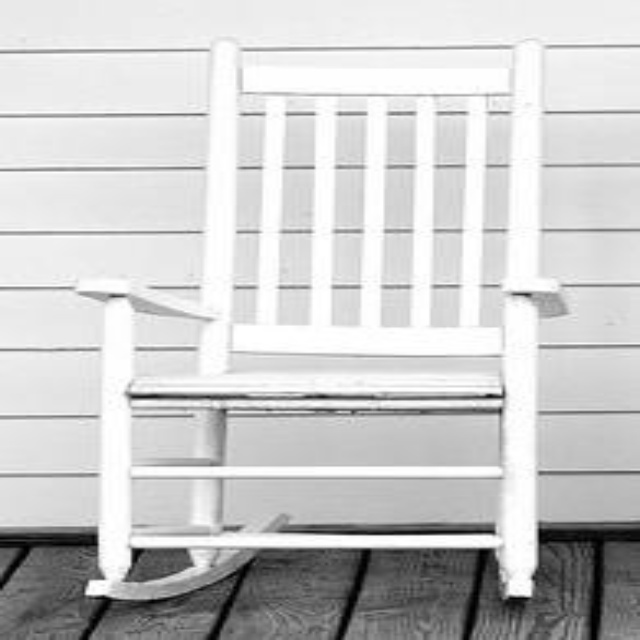obstacle: (75, 39, 555, 597)
